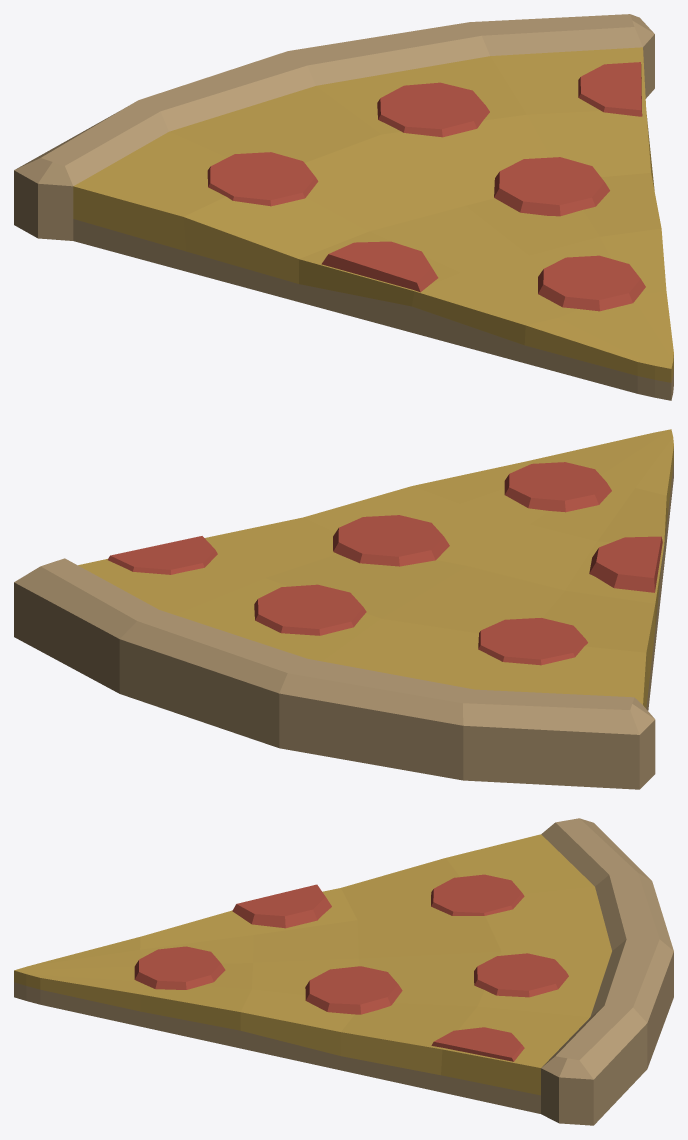
File: Pizza_Slice.glb
3 renders of one model, top to bottom at view 1: azimuth 30°, elevation 25°; view 2: azimuth 150°, elevation 25°; view 3: azimuth 270°, elevation 25°, orthographic. The views are drawn at different scales.
Parts seen in each view (by area): view 1: Pizza_Slice; view 2: Pizza_Slice; view 3: Pizza_Slice.
Part boxes in pixels (<box>): Pizza_Slice: <box>14,14,673,400</box>; Pizza_Slice: <box>14,429,673,789</box>; Pizza_Slice: <box>14,818,673,1125</box>.
Size of the model in its own units: 1.07 by 0.1128 by 1.16.
